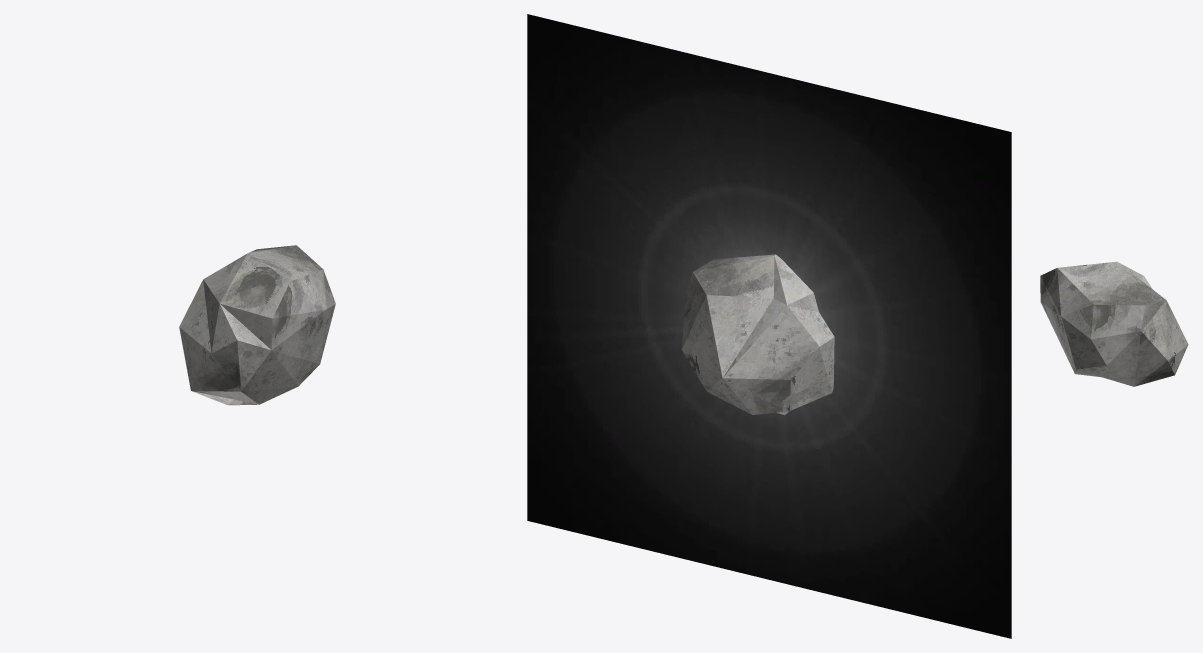
File: item_moonrock.glb
3 views of the same model, side by side, from view 1: azimuth 30°, elevation 25°; view 2: azimuth 150°, elevation 25°; view 3: azimuth 270°, elevation 25° (orthographic). The views are drawn at different scales.
Parts seen in each view (by area): view 1: Mine_Rock01; view 2: Quad, Mine_Rock01; view 3: Mine_Rock01.
Part boxes in pixels (x1,y1,x2,y2): Mine_Rock01: [179, 245, 335, 405]; Quad: [527, 14, 1011, 638]; Mine_Rock01: [681, 254, 834, 415]; Mine_Rock01: [1040, 261, 1188, 386].
Size of the model in its own units: 0.9087 by 0.9087 by 0.2862.
Materials: 2 (2 with a texture image).
